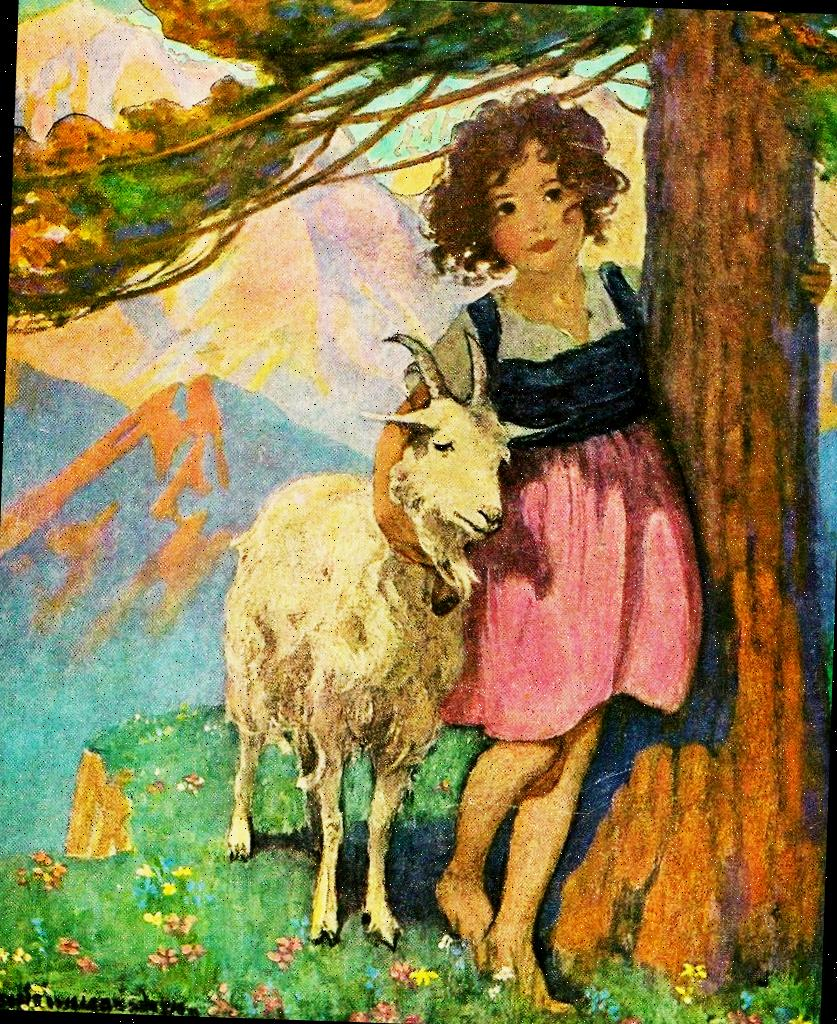Sheep: (220, 330, 558, 948)
